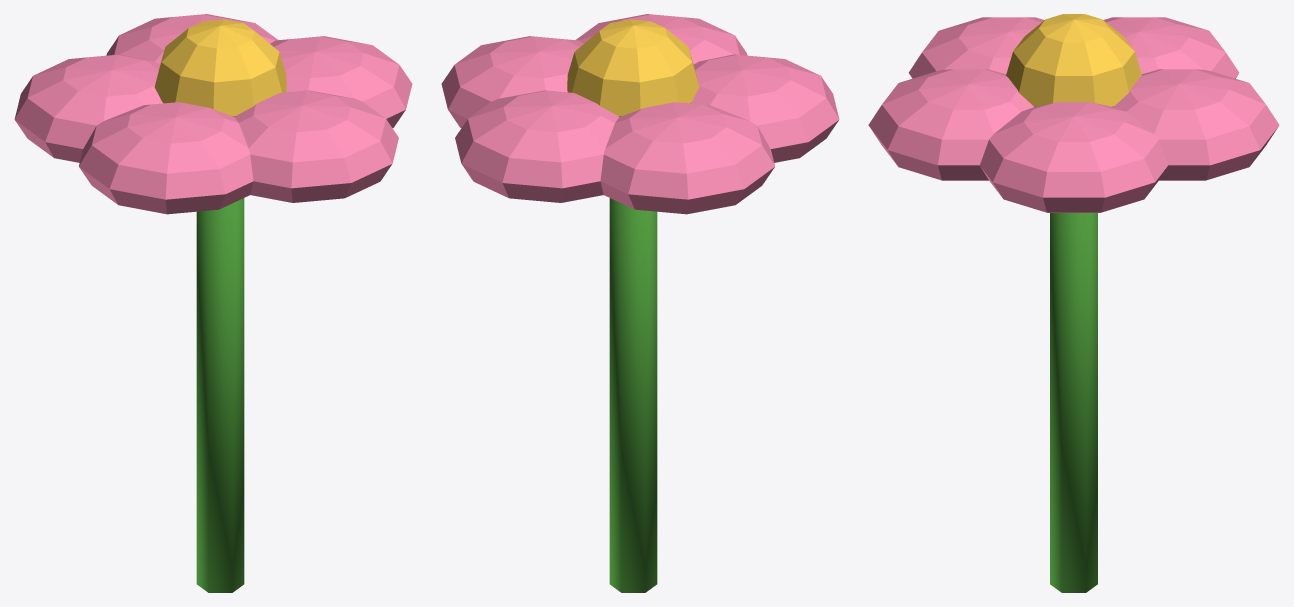
The model's file is flower_pink.glb.
3 views of the same model, side by side, from view 1: azimuth 30°, elevation 25°; view 2: azimuth 150°, elevation 25°; view 3: azimuth 270°, elevation 25° (orthographic).
Visible parts, largest first — view 1: flower_pink; view 2: flower_pink; view 3: flower_pink.
Part boxes in pixels (x1,y1,x2,y2): flower_pink: [14, 14, 412, 592]; flower_pink: [441, 14, 839, 592]; flower_pink: [868, 14, 1279, 592].
Bounding box in the file's own units: 0.1946 × 0.31 × 0.2046.
